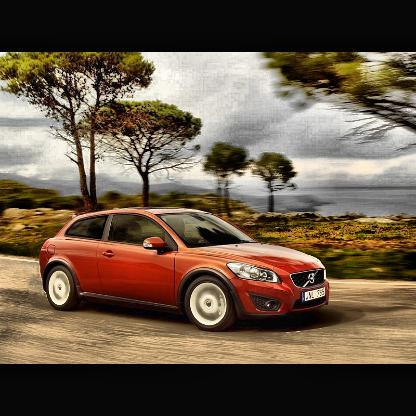Volvo C30 Hatchback 2012: (39, 210, 334, 333)
